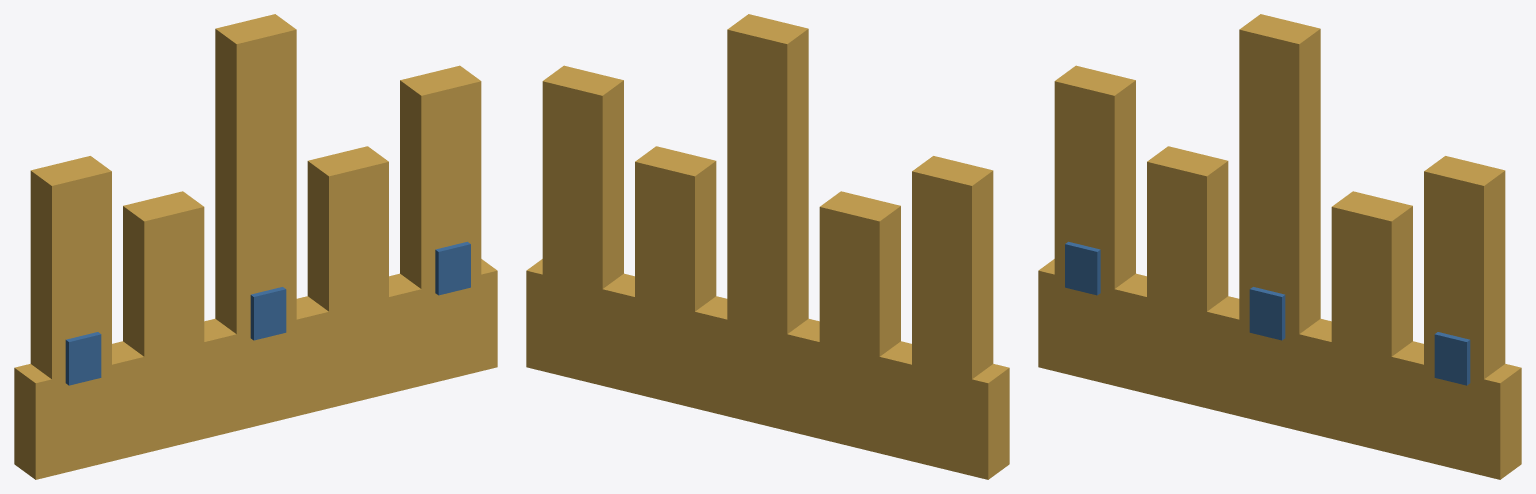
File: crown-crest.glb
3 renders of one model, left to right at view 1: azimuth 30°, elevation 25°; view 2: azimuth 150°, elevation 25°; view 3: azimuth 330°, elevation 25°, orthographic.
Parts seen in each view (by area): view 1: Crown base, Crown tine.002, Crown tine, Crown tine.004, Crown tine.001, Crown tine.003, Crown jewel.001, Crown jewel, Crown jewel.002; view 2: Crown base, Crown tine.002, Crown tine, Crown tine.004, Crown tine.001, Crown tine.003; view 3: Crown base, Crown tine.002, Crown tine.004, Crown tine, Crown tine.003, Crown tine.001, Crown jewel.001, Crown jewel.002, Crown jewel.
Boxes of the visible parts, x1,y1,x2,y2 form: Crown base: (14, 259, 497, 479); Crown tine.002: (215, 14, 296, 343); Crown tine: (30, 156, 111, 388); Crown tine.004: (400, 65, 481, 296); Crown tine.001: (123, 191, 204, 366); Crown tine.003: (307, 146, 388, 319); Crown jewel.001: (250, 287, 286, 340); Crown jewel: (65, 332, 101, 385); Crown jewel.002: (435, 241, 470, 295); Crown base: (526, 259, 1009, 479); Crown tine.002: (727, 14, 808, 343); Crown tine: (912, 156, 993, 387); Crown tine.004: (542, 65, 623, 298); Crown tine.001: (819, 191, 900, 366); Crown tine.003: (635, 146, 716, 320); Crown base: (1038, 259, 1521, 479); Crown tine.002: (1239, 14, 1320, 343); Crown tine.004: (1424, 156, 1505, 388); Crown tine: (1054, 65, 1135, 298); Crown tine.003: (1331, 191, 1412, 366); Crown tine.001: (1147, 146, 1228, 320); Crown jewel.001: (1249, 287, 1285, 340); Crown jewel.002: (1434, 332, 1470, 385); Crown jewel: (1065, 241, 1100, 295).
Size of the model in its own units: 1 by 0.8 by 0.0925.
